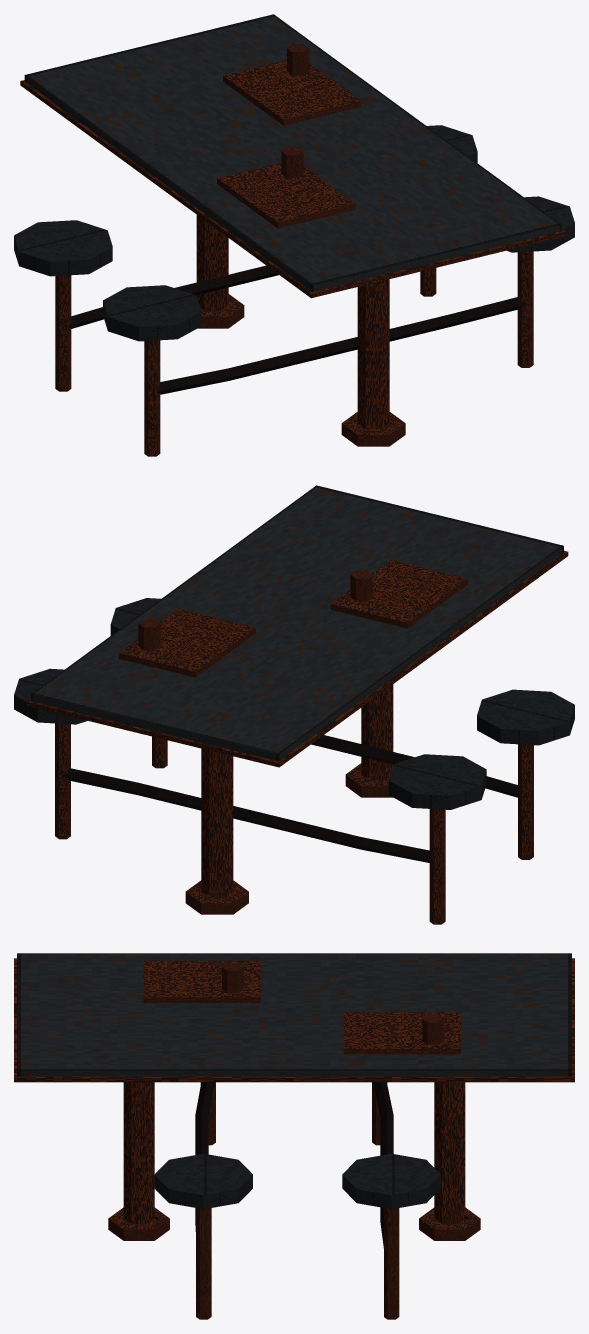
Rendered from mess_table_derelict_decay.glb.
3 views of the same model, one above another, from view 1: azimuth 30°, elevation 25°; view 2: azimuth 150°, elevation 25°; view 3: azimuth 270°, elevation 25° (orthographic). The views are drawn at different scales.
Parts seen in each view (by area): view 1: mess_table_derelict_decay; view 2: mess_table_derelict_decay; view 3: mess_table_derelict_decay.
Part boxes in pixels (x1,y1,x2,y2): mess_table_derelict_decay: (14,14,574,456); mess_table_derelict_decay: (14,485,574,924); mess_table_derelict_decay: (14,953,574,1319).
Size of the model in its own units: 1.66 by 0.885 by 1.82.
4 materials, 4 textured.
